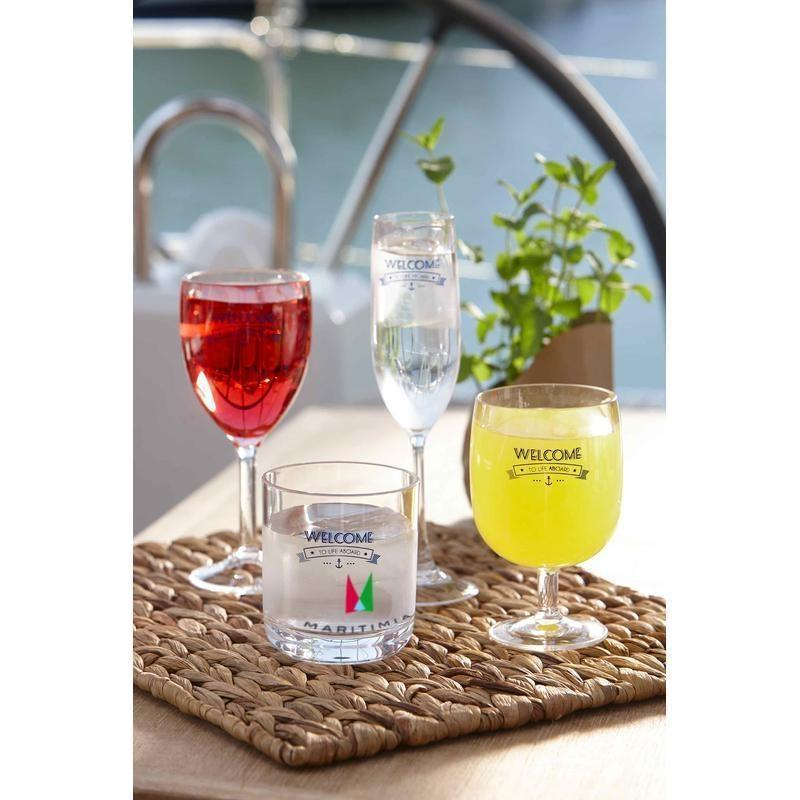glass-normal: (259, 458, 420, 663)
glass-wine: (178, 269, 313, 592), (467, 382, 626, 649), (369, 210, 468, 604)
